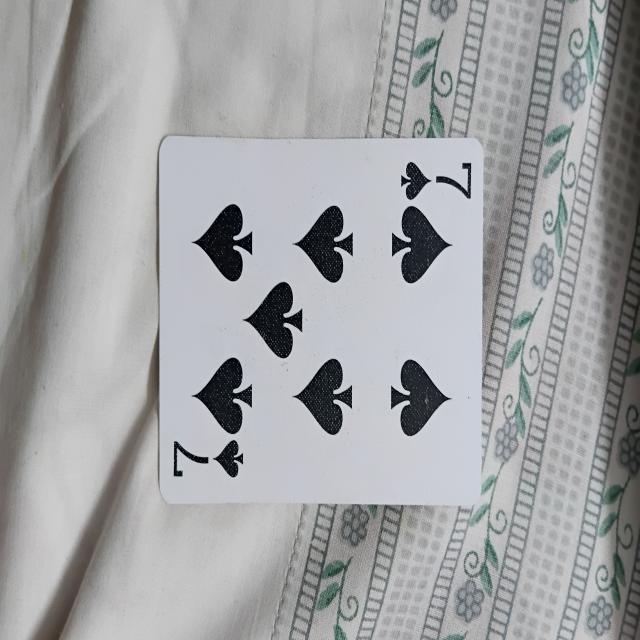7S: (155, 138, 480, 503)
